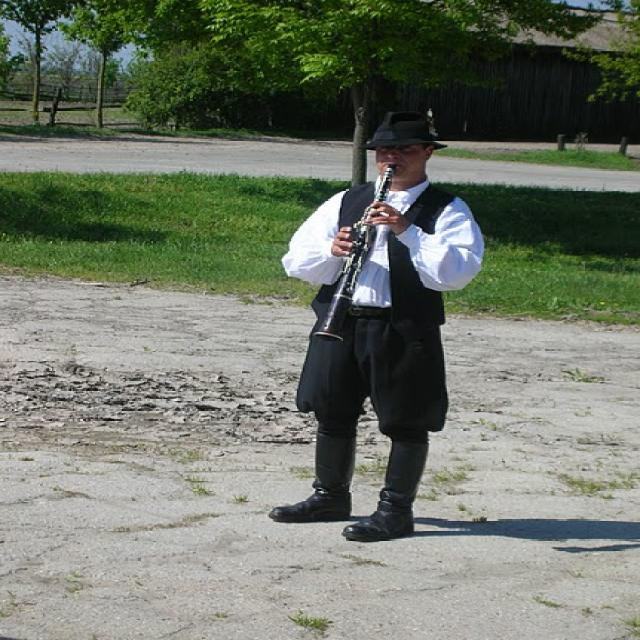clarinet: (312, 164, 404, 346)
